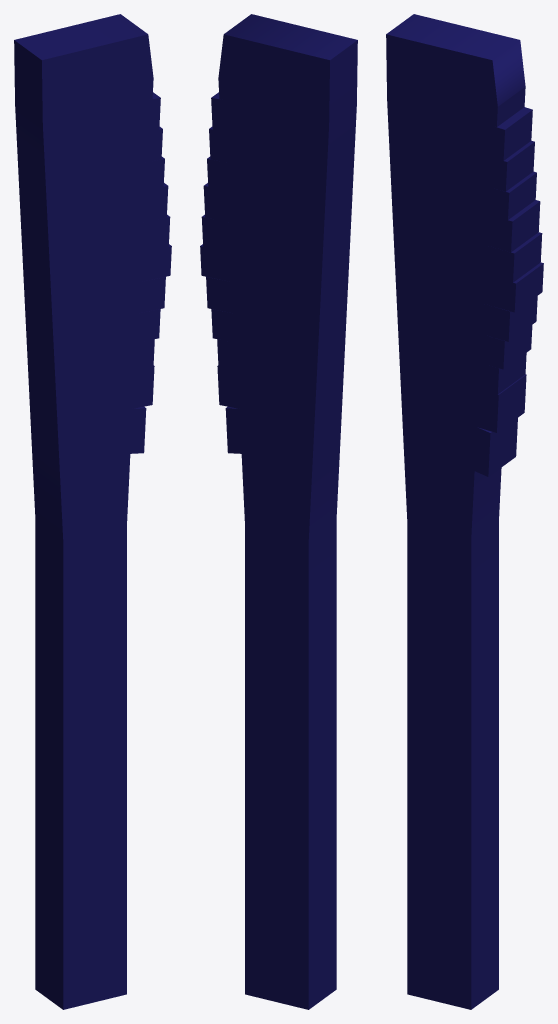
File: Knife.obj
3 views of the same model, side by side, from view 1: azimuth 30°, elevation 25°; view 2: azimuth 150°, elevation 25°; view 3: azimuth 330°, elevation 25° (orthographic).
Visible parts, largest first — view 1: pCube3; view 2: pCube3; view 3: pCube3.
Part boxes in pixels (left/top/right/bottom): pCube3: left=14, top=14, right=171, bottom=1009; pCube3: left=200, top=14, right=357, bottom=1009; pCube3: left=386, top=14, right=543, bottom=1009.
Size of the model in its own units: 1.05 by 7.39 by 0.3893.
